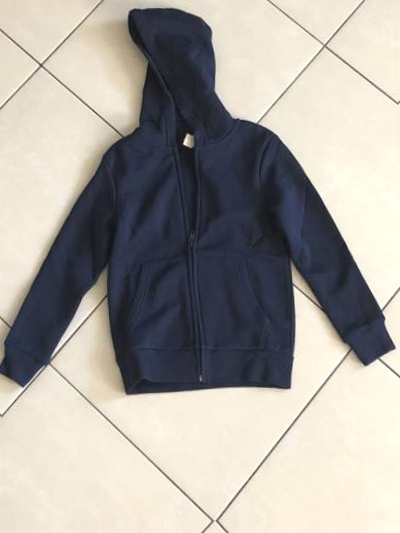Hoodie: (0, 0, 373, 414)
